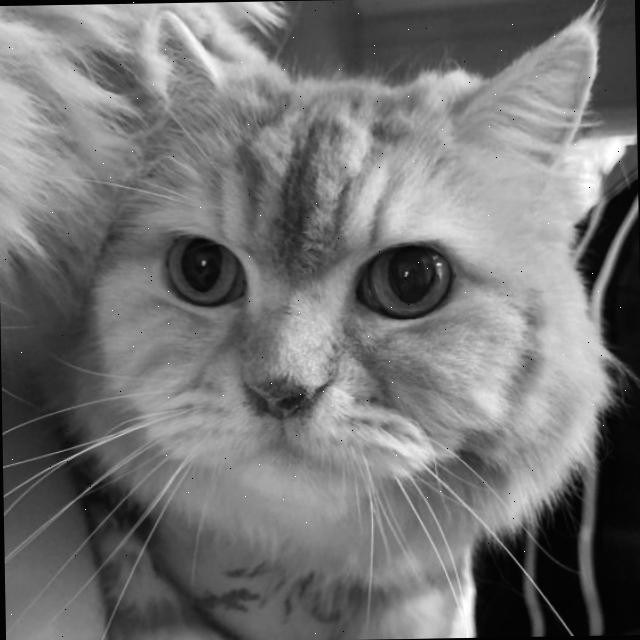persian_cat: (41, 0, 627, 544)
